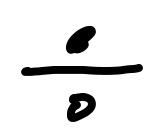div: (21, 26, 143, 122)
